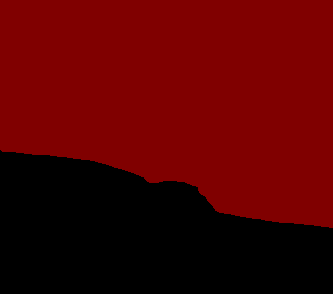Sky: (1, 1, 332, 293)
